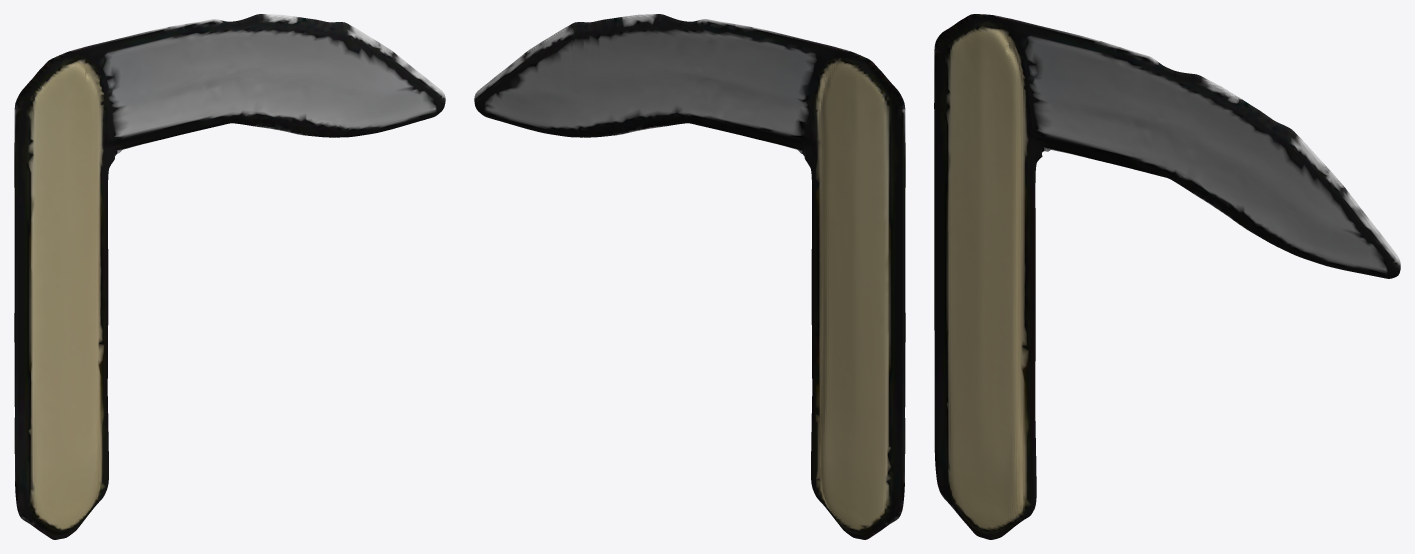
Rendered from kama_1.glb.
The picture shows the model from 3 angles, left to right: view 1: azimuth 30°, elevation 25°; view 2: azimuth 150°, elevation 25°; view 3: azimuth 330°, elevation 25°; orthographic projection. The views are drawn at different scales.
Parts seen in each view (by area): view 1: geometry_0; view 2: geometry_0; view 3: geometry_0.
Part boxes in pixels (x1,y1,x2,y2): geometry_0: [14, 14, 445, 539]; geometry_0: [474, 14, 905, 539]; geometry_0: [934, 14, 1400, 539].
Bounding box in the file's own units: 0.7812 × 0.8423 × 0.0224.
